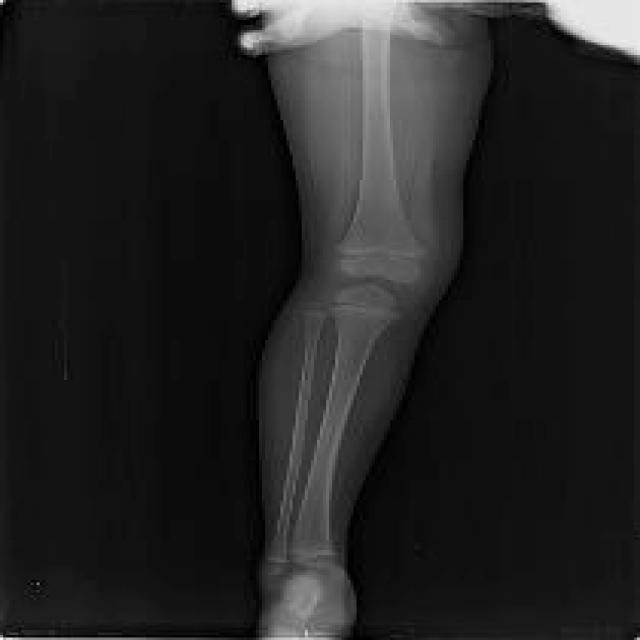bone-cancer: (265, 562, 357, 637)
